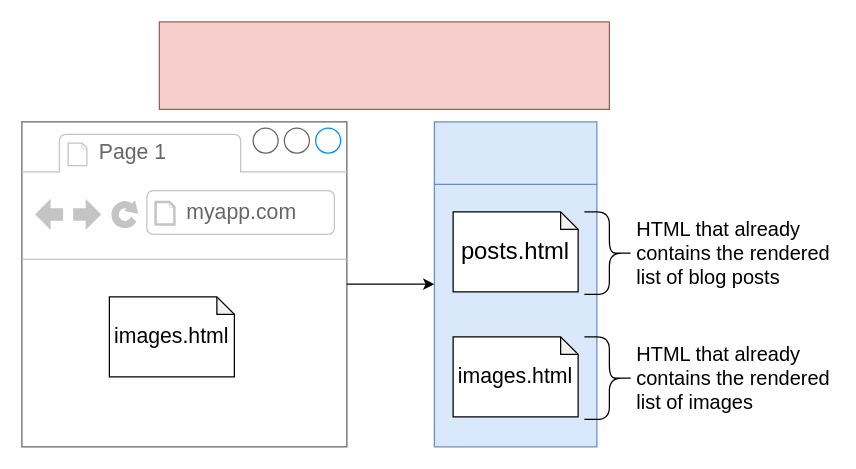
Some shapes in this 856 by 469 pixel diagram are drawn without their labels. Here are the shapes that lost their labels. From the top down, the centre of each, then its label:
At (383,65): "Goal of app Show list of blog posts or list of images to user".
At (515,152): "Server".
